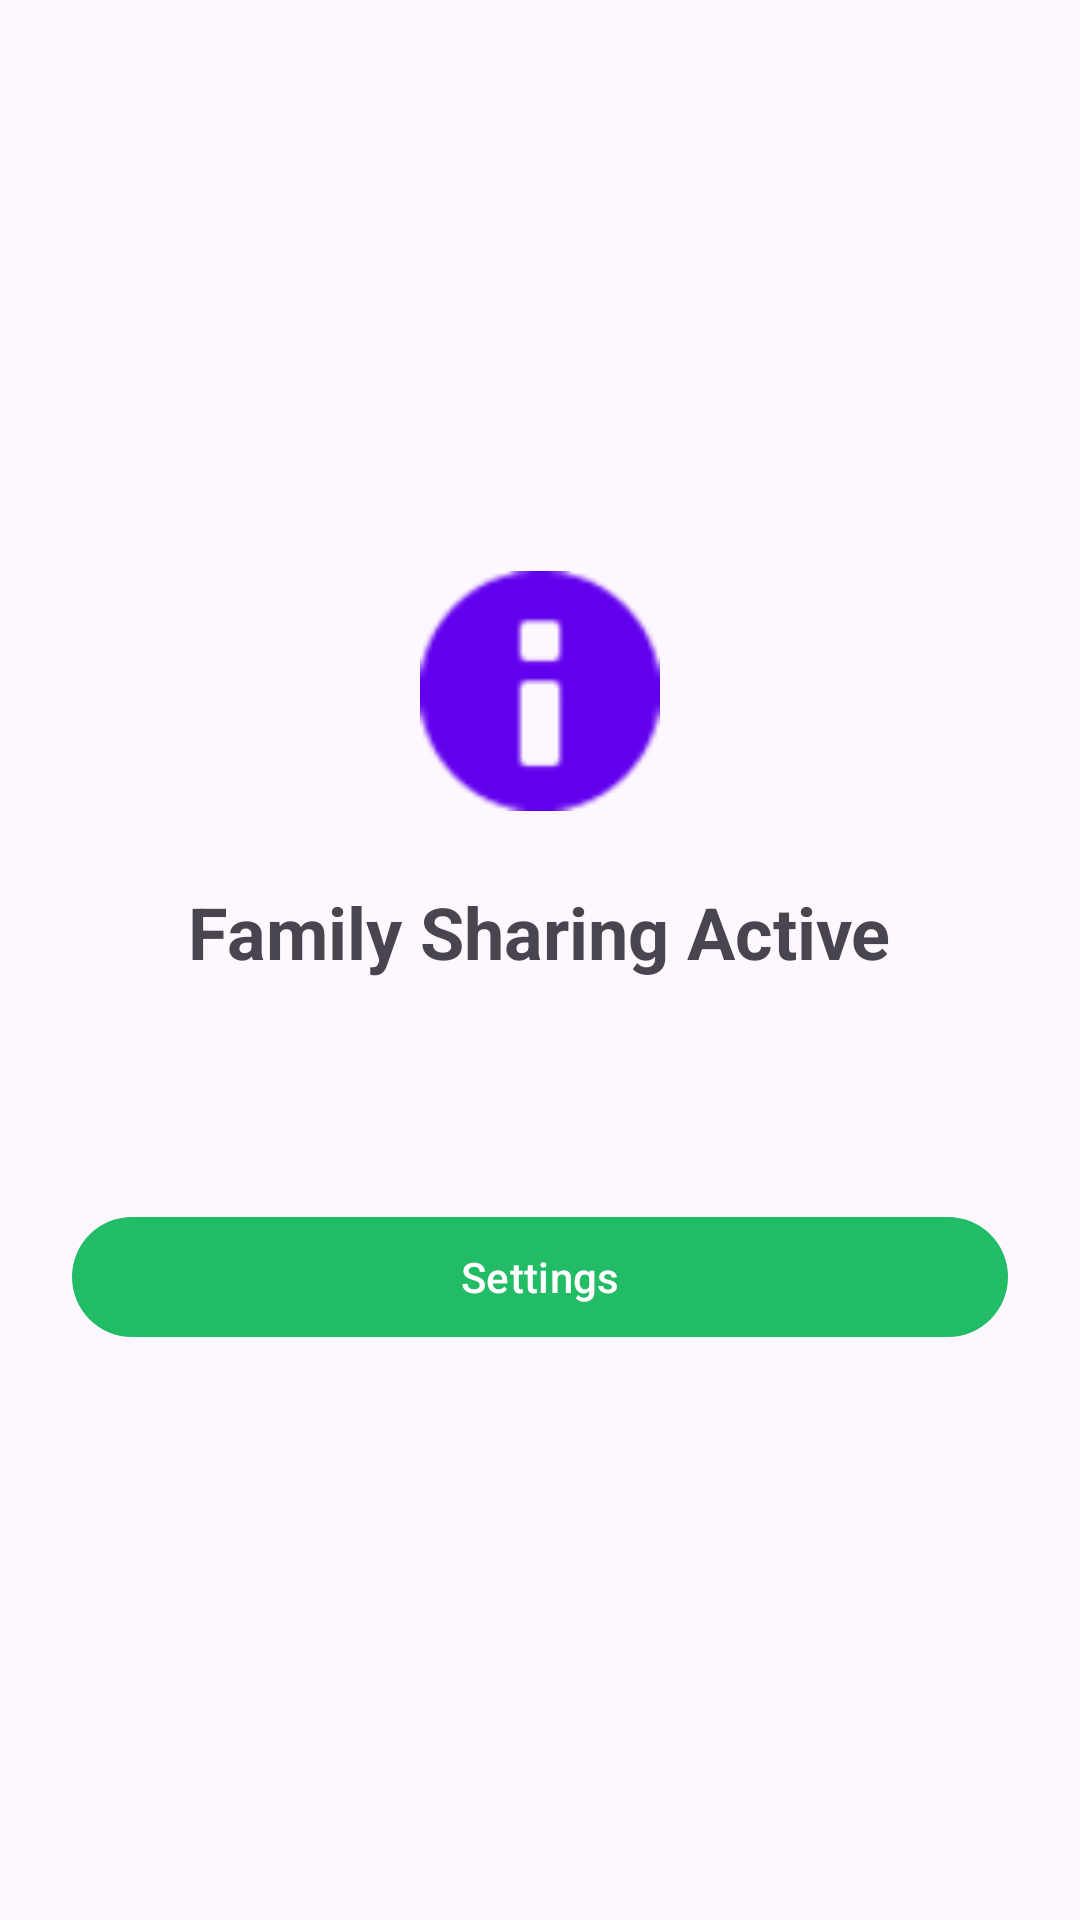

Named icons in this screenshot (1080px x 1920px) and their bounding boxes, (x1, y1, x2, y2):
info: (420, 571, 660, 811)
